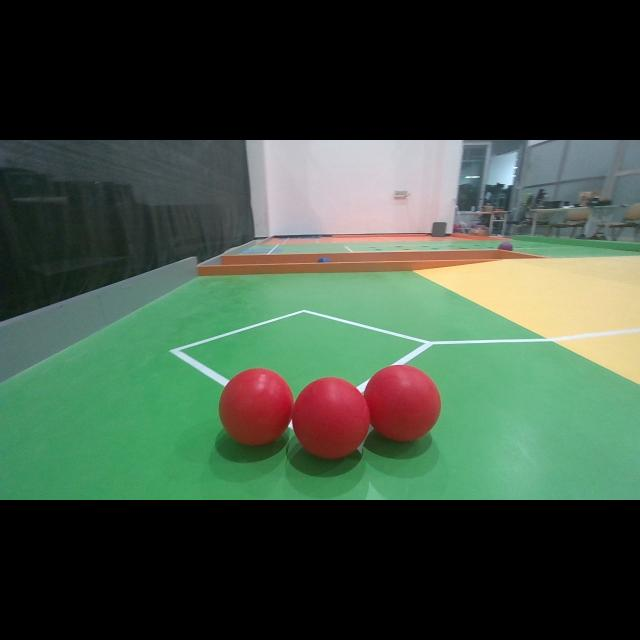R: (292, 378, 370, 458), (364, 364, 441, 442), (218, 368, 294, 446)
